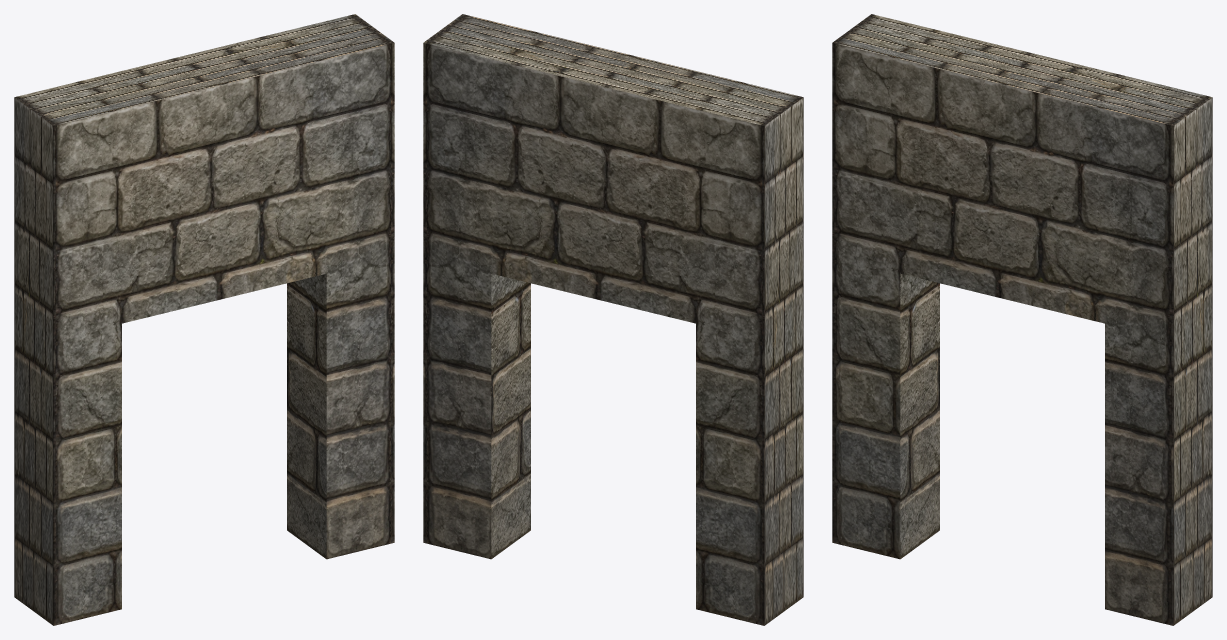
File: frame_fortress.glb
3 renders of one model, left to right at view 1: azimuth 30°, elevation 25°; view 2: azimuth 150°, elevation 25°; view 3: azimuth 330°, elevation 25°, orthographic.
Parts seen in each view (by area): view 1: Fortress gate; view 2: Fortress gate; view 3: Fortress gate.
Boxes of the visible parts, left/top/right/bottom form: Fortress gate: left=14, top=14, right=394, bottom=625; Fortress gate: left=423, top=14, right=803, bottom=625; Fortress gate: left=832, top=14, right=1212, bottom=625.
Size of the model in its own units: 2 by 2.8 by 0.4.
Materials: 1 (1 with a texture image).
